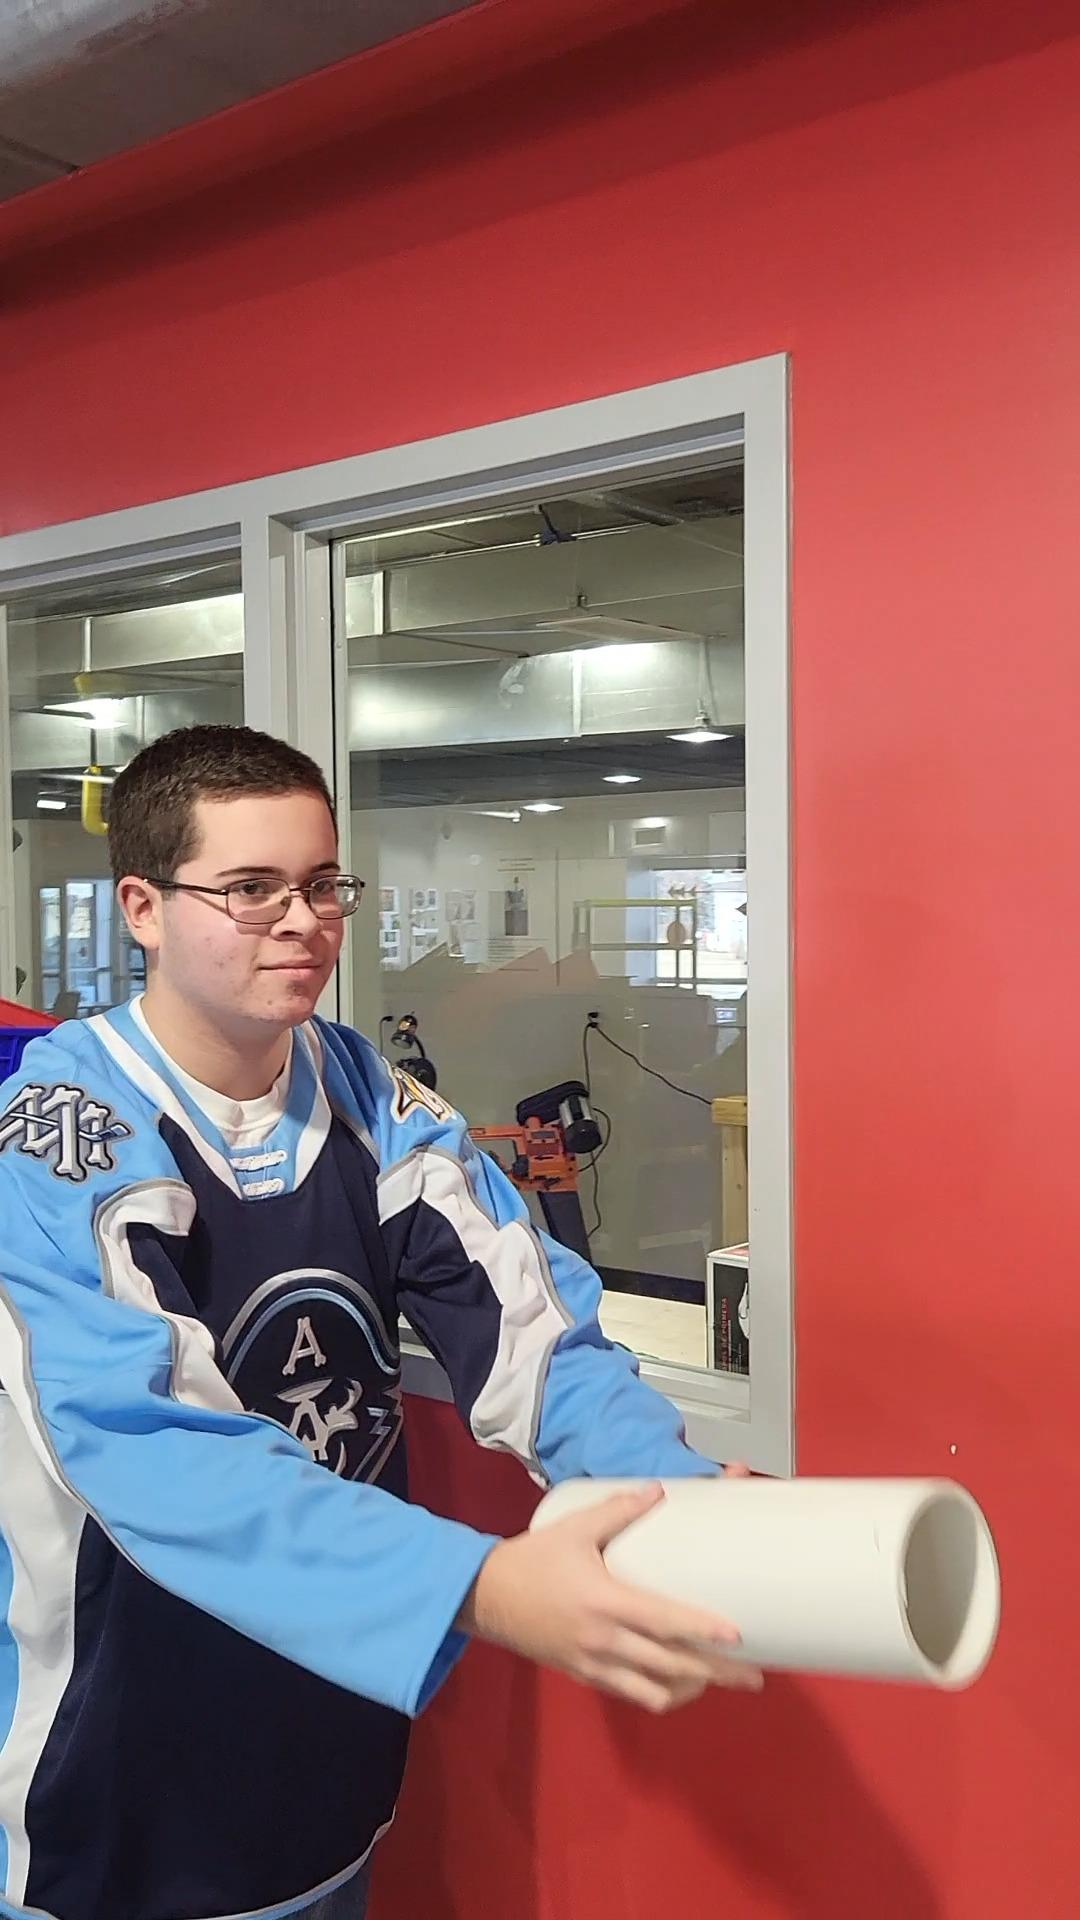coral: (537, 1465, 1000, 1691)
